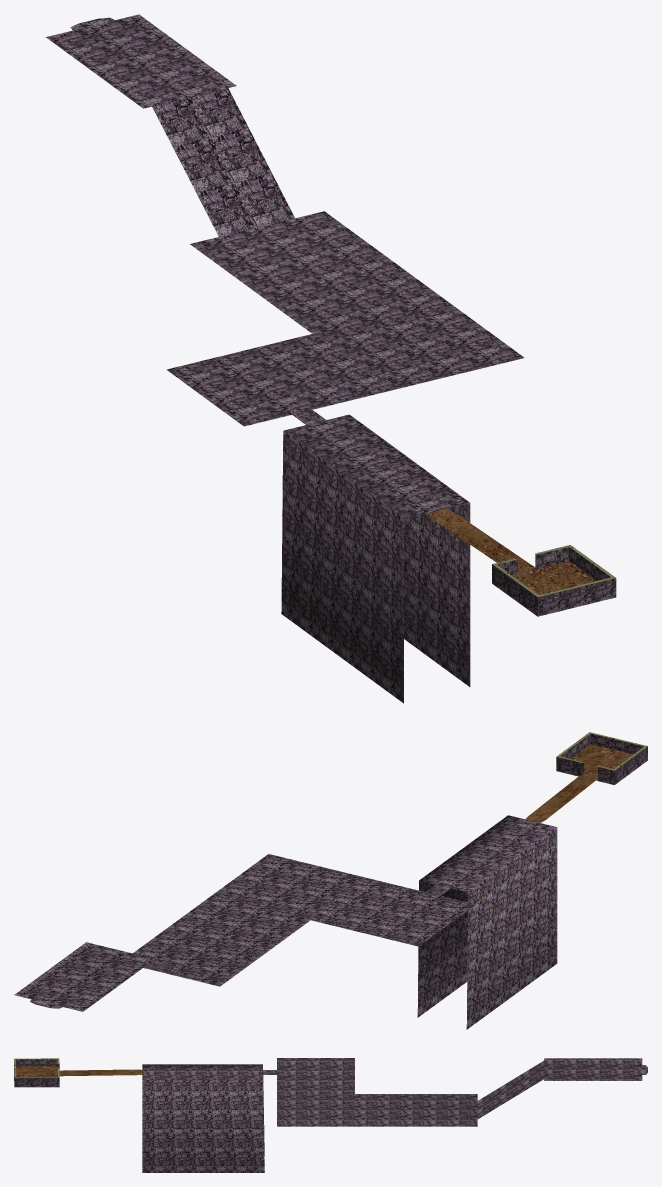
File: fixedDungeonFloor.glb
The picture shows the model from 3 angles, top to bottom: view 1: azimuth 30°, elevation 25°; view 2: azimuth 150°, elevation 25°; view 3: azimuth 270°, elevation 25°; orthographic projection. The views are drawn at different scales.
Parts seen in each view (by area): view 1: jailsFloors.001; view 2: jailsFloors.001; view 3: jailsFloors.001.
Part boxes in pixels (x1,y1,x2,y2): jailsFloors.001: (46, 14, 616, 703); jailsFloors.001: (14, 732, 647, 1029); jailsFloors.001: (14, 1058, 647, 1172).
Bounding box in the file's own units: 84.6 × 76.54 × 331.
Materials: 3 (3 with a texture image).
